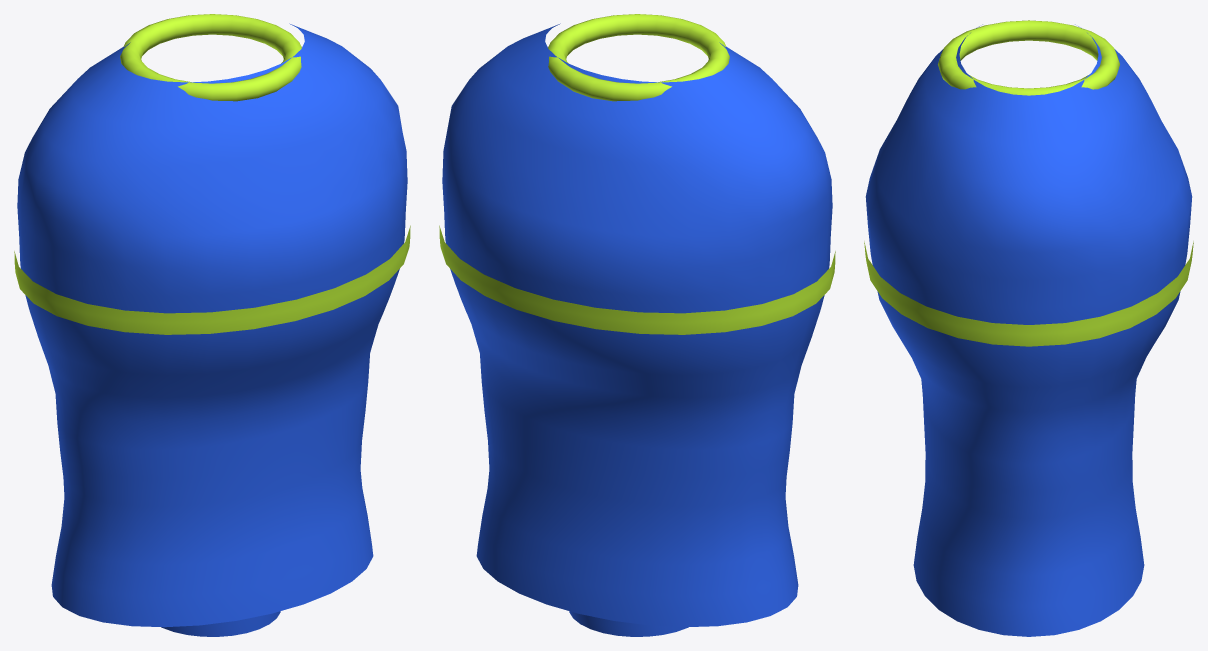
File: top_tee_female.glb
The picture shows the model from 3 angles, left to right: view 1: azimuth 30°, elevation 25°; view 2: azimuth 150°, elevation 25°; view 3: azimuth 270°, elevation 25°; orthographic projection. The views are drawn at different scales.
Parts seen in each view (by area): view 1: shirt, stripe, collar, sleeve; view 2: shirt, stripe, collar, sleeve; view 3: shirt, stripe, collar.
Part boxes in pixels (x1=…): shirt: x1=17, y1=23, x2=407, y2=627; stripe: x1=14, y1=225, x2=410, y2=334; collar: x1=120, y1=14, x2=301, y2=101; sleeve: x1=161, y1=611, x2=280, y2=636; shirt: x1=442, y1=23, x2=832, y2=627; stripe: x1=439, y1=225, x2=835, y2=334; collar: x1=548, y1=14, x2=729, y2=101; sleeve: x1=569, y1=611, x2=688, y2=636; shirt: x1=865, y1=24, x2=1192, y2=636; stripe: x1=864, y1=241, x2=1193, y2=346; collar: x1=938, y1=20, x2=1119, y2=95.
Size of the model in its own units: 0.3022 by 0.45 by 0.246.
